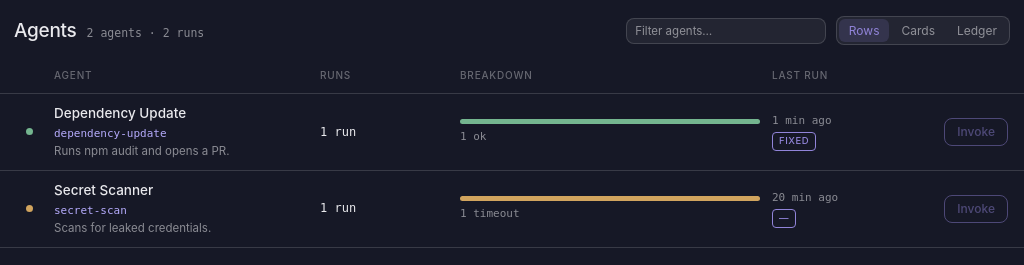
Scenario: dashboard — filter (AC-107.8, EC-25) › shows a DISTINCT no-match state naming the query, not the no-agents copy (EC-25)
Type "zzz" into the search field labelled "Filter agents…" at (726, 31), box x1=626 y1=18 x2=826 y2=44
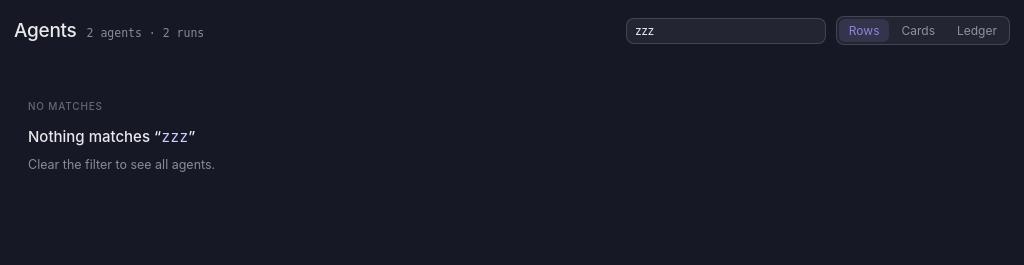
Expected: the text "Nothing matches “zzz”" is shown, x1=28 y1=125 x2=195 y2=149
Expected: the text "zzz" is shown, x1=161 y1=128 x2=188 y2=146
